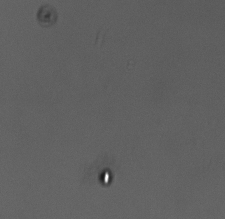Dead Cell: (36, 4, 58, 26)
Living Cell: (98, 167, 116, 186)
